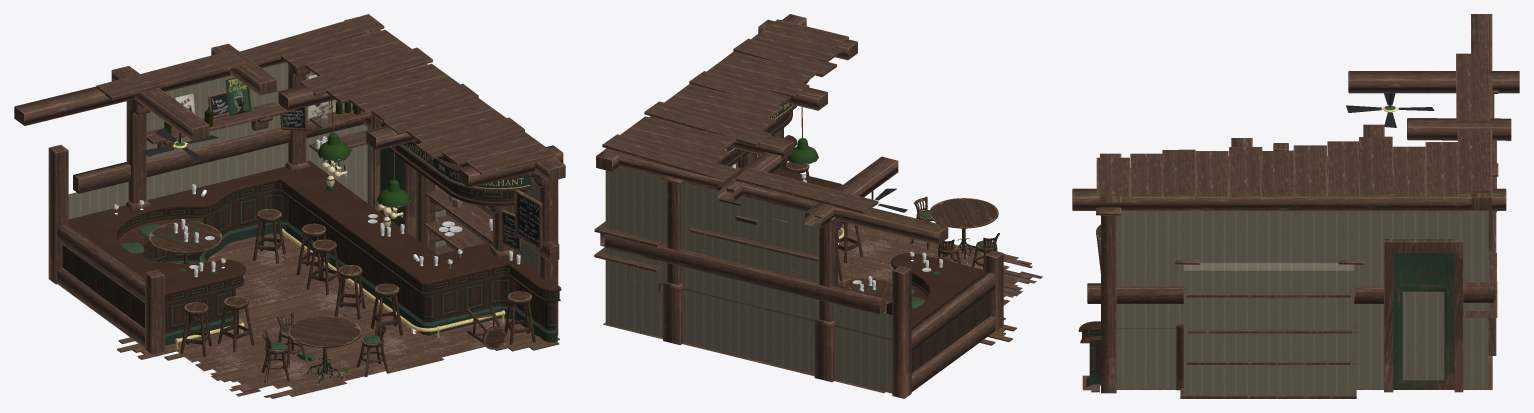
3 views of the same model, side by side, from view 1: azimuth 30°, elevation 25°; view 2: azimuth 150°, elevation 25°; view 3: azimuth 270°, elevation 25° (orthographic). The views are drawn at different scales.
Parts seen in each view (by area): view 1: samor_1802_101, samor_1802_03, samor_1802_21, samor_1802_100, samor_1802_23, samor_1802_63, samor_1802_22, samor_1802_64, samor_1802_76, samor_1802_79, samor_1802_53, samor_1802_46 (+42 smaller); view 2: samor_1802_23, samor_1802_21, samor_1802_03, samor_1802_63, samor_1802_64, samor_1802_13, samor_1802_100, samor_1802_76, samor_1802_101, samor_1802_46, samor_1802_53, samor_1802_79 (+18 smaller); view 3: samor_1802_23, samor_1802_21, samor_1802_65, samor_1802_97, samor_1802_98, samor_1802_45, samor_1802_93, samor_1802_62, samor_1802_53, samor_1802_59, samor_1802_64, samor_1802_10 (+9 smaller).
Boxes of the visible parts, <box> form: samor_1802_101: <box>62,181,560,345</box>; samor_1802_03: <box>117,233,559,398</box>; samor_1802_21: <box>96,14,555,174</box>; samor_1802_100: <box>68,160,561,295</box>; samor_1802_23: <box>146,62,538,270</box>; samor_1802_63: <box>73,119,363,193</box>; samor_1802_22: <box>375,116,531,206</box>; samor_1802_64: <box>14,51,285,125</box>; samor_1802_76: <box>48,145,68,284</box>; samor_1802_79: <box>288,316,361,385</box>; samor_1802_53: <box>300,47,432,96</box>; samor_1802_46: <box>57,224,144,302</box>; samor_1802_23: <box>605,154,818,374</box>; samor_1802_21: <box>602,19,878,213</box>; samor_1802_03: <box>603,223,1042,393</box>; samor_1802_63: <box>604,234,885,314</box>; samor_1802_64: <box>602,148,948,244</box>; samor_1802_13: <box>833,303,892,393</box>; samor_1802_100: <box>658,135,984,340</box>; samor_1802_76: <box>892,266,911,398</box>; samor_1802_101: <box>780,157,990,372</box>; samor_1802_46: <box>911,272,995,350</box>; samor_1802_53: <box>644,101,771,146</box>; samor_1802_79: <box>929,198,998,264</box>; samor_1802_23: <box>1116,211,1488,394</box>; samor_1802_21: <box>1096,53,1491,199</box>; samor_1802_65: <box>1072,188,1506,210</box>; samor_1802_97: <box>1393,252,1454,389</box>; samor_1802_98: <box>1384,239,1463,392</box>; samor_1802_45: <box>1348,71,1519,93</box>; samor_1802_93: <box>1096,207,1121,393</box>; samor_1802_62: <box>1087,283,1383,303</box>; samor_1802_53: <box>1359,136,1392,194</box>; samor_1802_59: <box>1407,118,1511,140</box>; samor_1802_64: <box>1471,14,1492,209</box>; samor_1802_10: <box>1463,253,1497,317</box>.
Size of the model in its own units: 92.15 by 45.5 by 91.12.
Materials: 5 (5 with a texture image).
